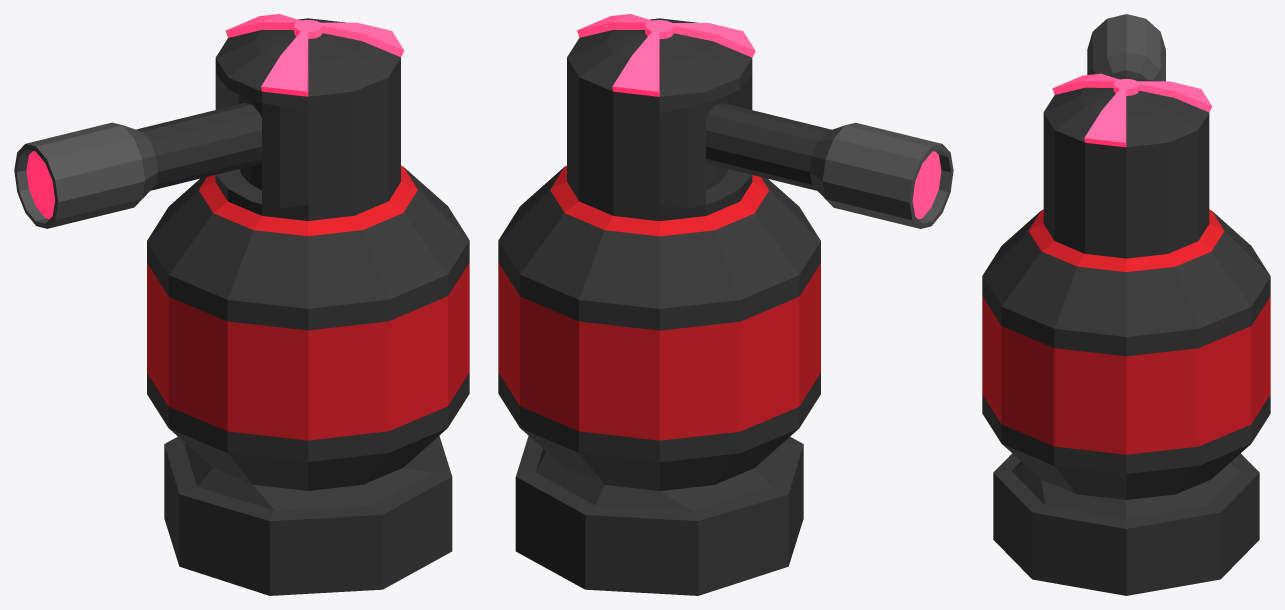
File: TurretAcid.fbx
3 views of the same model, side by side, from view 1: azimuth 30°, elevation 25°; view 2: azimuth 150°, elevation 25°; view 3: azimuth 270°, elevation 25° (orthographic). The views are drawn at different scales.
Visible parts, largest first — view 1: AcidGun; view 2: AcidGun; view 3: AcidGun.
Boxes of the visible parts, <box> form: AcidGun: <box>14,14,469,595</box>; AcidGun: <box>498,14,953,595</box>; AcidGun: <box>982,14,1270,595</box>.
Bounding box in the file's own units: 1052 × 1242 × 713.
